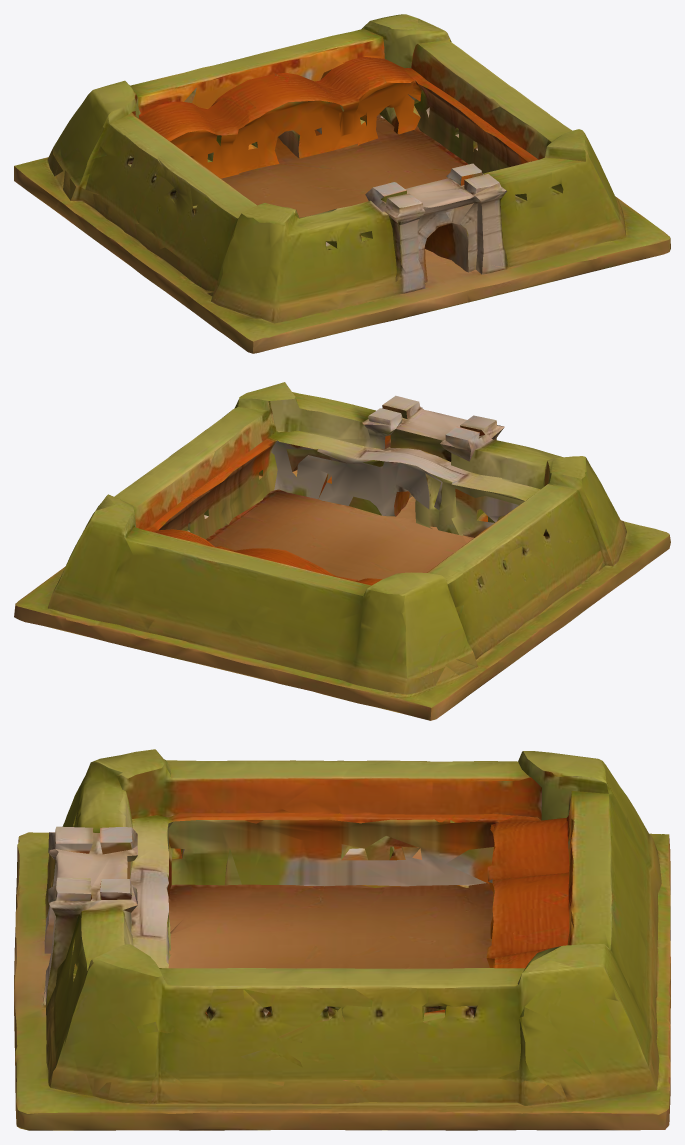
Rendered from hobe-fort.glb.
The picture shows the model from 3 angles, top to bottom: view 1: azimuth 30°, elevation 25°; view 2: azimuth 150°, elevation 25°; view 3: azimuth 270°, elevation 25°; orthographic projection. The views are drawn at different scales.
Visible parts, largest first — view 1: logan-textured.obj; view 2: logan-textured.obj; view 3: logan-textured.obj.
Boxes of the visible parts, box(x1,y1,x2,y2) form: logan-textured.obj: box(14, 14, 670, 353); logan-textured.obj: box(14, 382, 670, 720); logan-textured.obj: box(14, 749, 670, 1130).
Bounding box in the file's own units: 1 × 0.2213 × 0.9891.
1 material, 1 textured.
